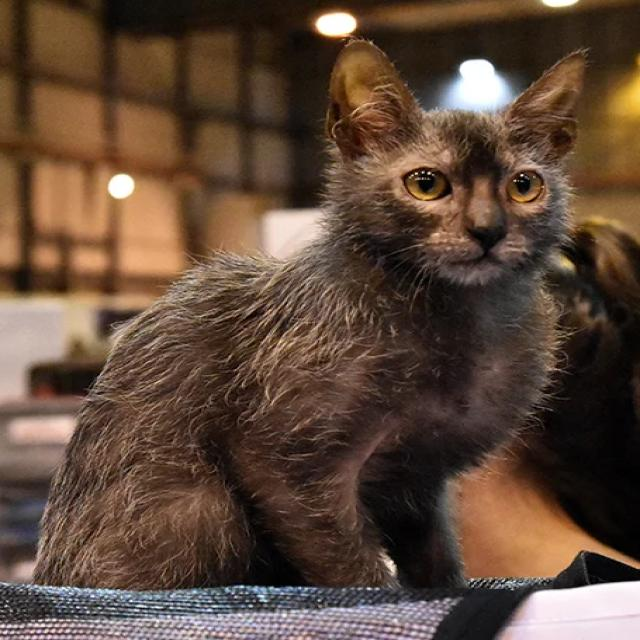Lykoi: (25, 32, 599, 599)
